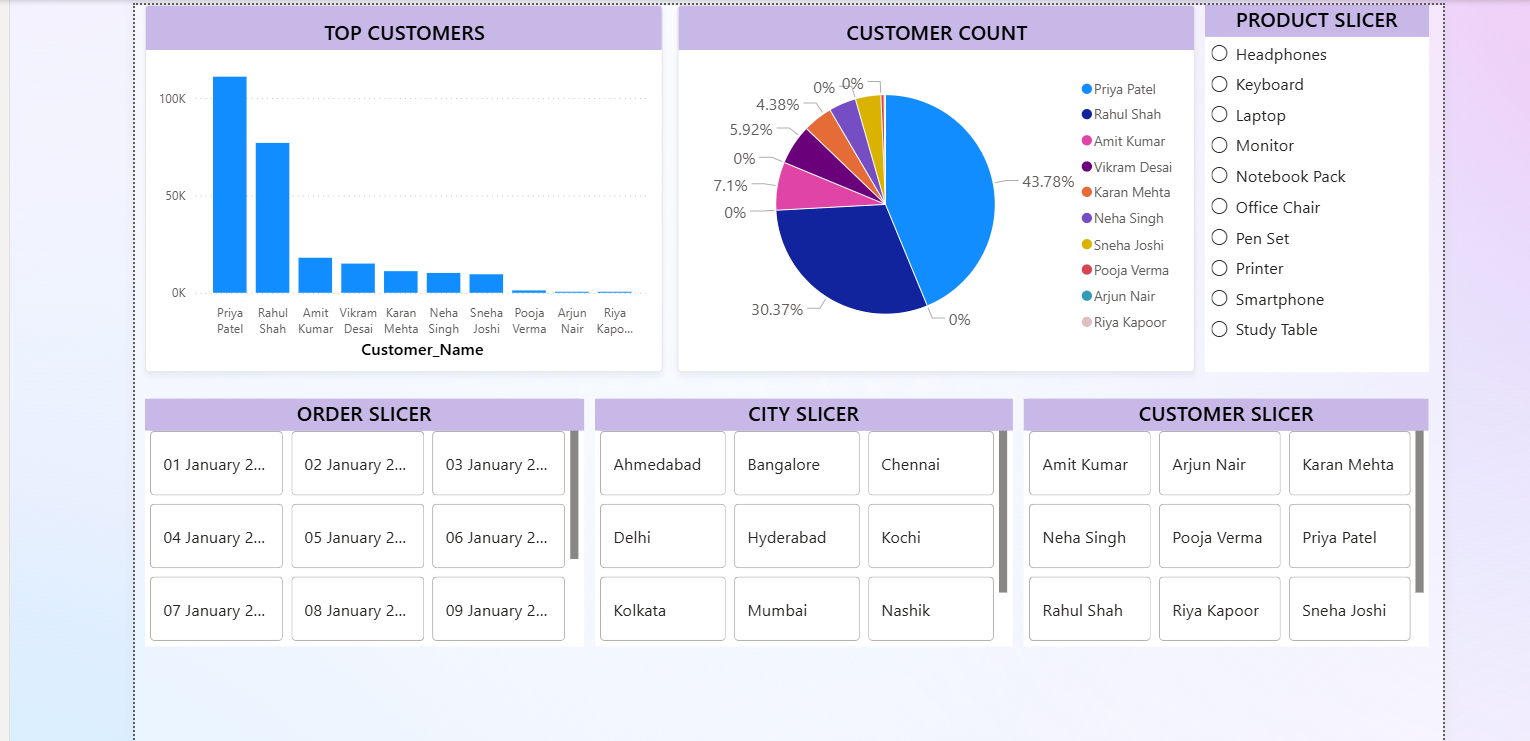

Layout of this report page (visuals, bound fields, positions):
{"tool":"powerbi","page":{"name":"Customer Analysis","canvas":[1280,720],"ordinal":1},"visuals":[{"type":"clusteredColumnChart","title":"TOP CUSTOMERS","fields":{"Category":["Table1.Customer_Name"],"Y":["Sum(Table47.Sales)"]},"box":[9.6,0,506.3,359.5],"z":0},{"type":"pieChart","title":"CUSTOMER COUNT ","fields":{"Category":["Table1.Customer_Name"],"Y":["Sum(Table47.Sales)","Count(Table1.Customer_ID)"]},"box":[531,0,506.3,359.5],"z":1000},{"type":"advancedSlicerVisual","title":"ORDER SLICER","fields":{"Values":["Table47.Order_Date"]},"box":[9.8,385.2,429.2,242.1],"z":2000},{"type":"advancedSlicerVisual","title":"CITY SLICER","fields":{"Values":["Table36.City"]},"box":[450,385.2,408.4,242.1],"z":2001},{"type":"listSlicer","title":"PRODUCT SLICER","fields":{"Values":["Table7.Product_Name"]},"box":[1046.7,0,218.9,359.5],"z":2002},{"type":"advancedSlicerVisual","title":"CUSTOMER SLICER","fields":{"Values":["Table1.Customer_Name"]},"box":[869.4,385.2,396.2,242.1],"z":2003}]}

Visuals, with their boxes on the page's 1280x720 design canvas (x1, y1, x2, y2). These are canvas units, not pixel positions in the 1530x741 screenshot, which may show the page scaled, cropped or inside an application window:
"TOP CUSTOMERS" clusteredColumnChart: bbox=(10, 0, 516, 360)
"CUSTOMER COUNT " pieChart: bbox=(531, 0, 1037, 360)
"ORDER SLICER" advancedSlicerVisual: bbox=(10, 385, 439, 627)
"CITY SLICER" advancedSlicerVisual: bbox=(450, 385, 858, 627)
"PRODUCT SLICER" listSlicer: bbox=(1047, 0, 1266, 360)
"CUSTOMER SLICER" advancedSlicerVisual: bbox=(869, 385, 1266, 627)
